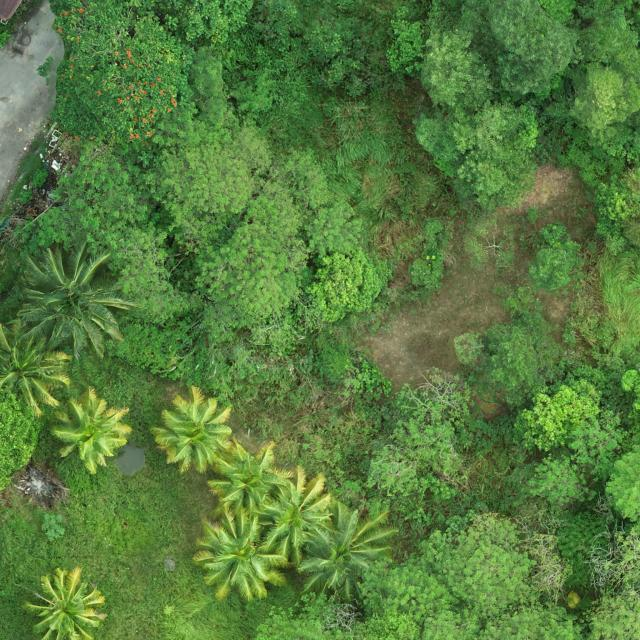tree: (36, 119, 364, 335), (249, 508, 585, 640), (52, 4, 196, 156), (14, 236, 140, 364), (365, 365, 475, 503), (413, 99, 541, 211), (295, 500, 401, 603), (190, 506, 286, 602), (250, 466, 336, 569), (148, 384, 236, 476), (49, 386, 134, 475), (0, 316, 73, 418), (208, 439, 296, 522), (511, 380, 605, 452), (21, 565, 108, 640), (522, 450, 598, 512), (567, 409, 632, 480)
